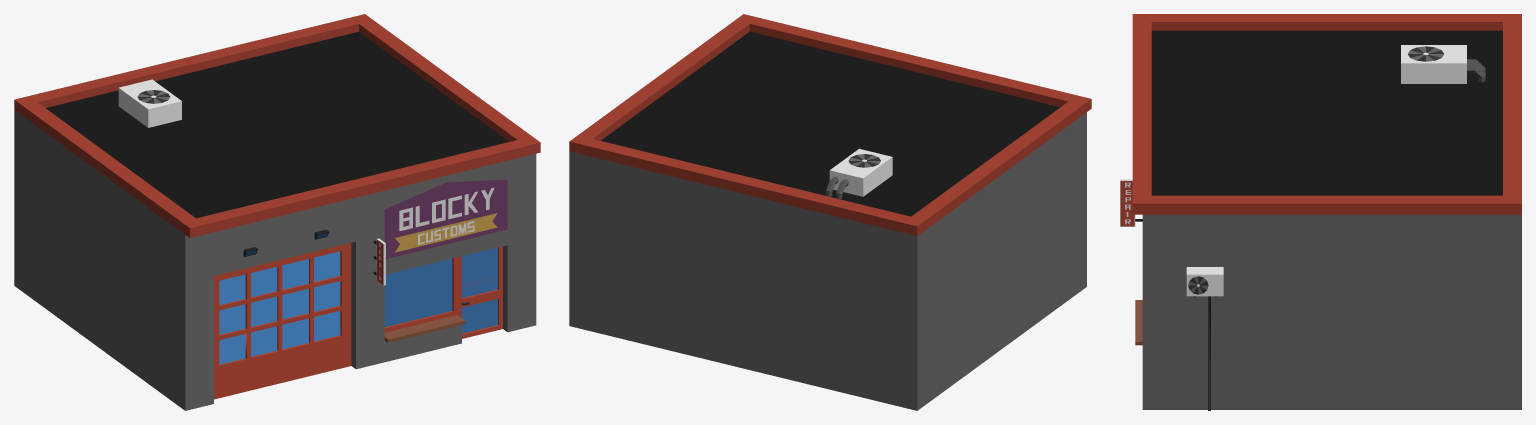
File: Building_10_T01.FBX
The picture shows the model from 3 angles, left to right: view 1: azimuth 30°, elevation 25°; view 2: azimuth 150°, elevation 25°; view 3: azimuth 270°, elevation 25°; orthographic projection. The views are drawn at different scales.
Visible parts, largest first — view 1: Building_10_T01, Building_10_T02, sign_blocky customs, wall01, Condition01; view 2: Building_10_T01, Building_10_T02, wall01, Condition01; view 3: wall01, Building_10_T01, Building_10_T02, Condition01, Condition02, Repair.
Boxes of the visible parts, <box> form: Building_10_T01: <box>14,51,389,410</box>; Building_10_T02: <box>207,14,540,361</box>; sign_blocky customs: <box>384,179,507,258</box>; wall01: <box>359,14,540,142</box>; Condition01: <box>118,79,181,127</box>; Building_10_T01: <box>719,50,1091,410</box>; Building_10_T02: <box>569,14,899,362</box>; wall01: <box>570,14,749,141</box>; Condition01: <box>826,148,892,198</box>; wall01: <box>1132,195,1521,409</box>; Building_10_T01: <box>1132,14,1521,122</box>; Building_10_T02: <box>1132,114,1521,345</box>; Condition01: <box>1401,45,1485,83</box>; Condition02: <box>1186,267,1223,410</box>; Repair: <box>1120,179,1142,226</box>.
Size of the model in its own units: 455 by 235 by 391.
